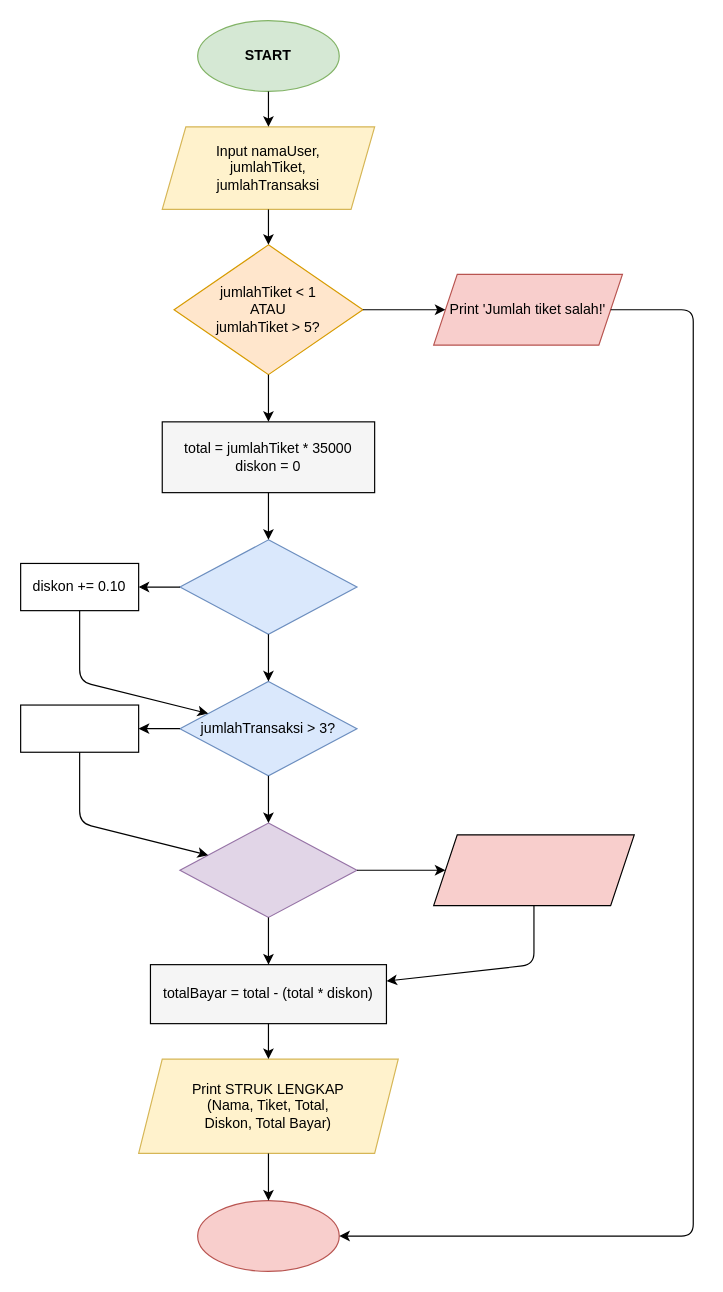
This 723x1292 diagram has some shape labels left out. Each missing label, with the box of its shape:
diskon += 0.05: (19, 704, 139, 752)
END: (196, 1199, 339, 1271)
jumlahTiket == 5?: (179, 539, 357, 634)
jumlahTransaksi > 5?: (179, 822, 357, 917)
Print Peringatan: 'Batas 5x Terlampaui': (432, 834, 634, 906)
